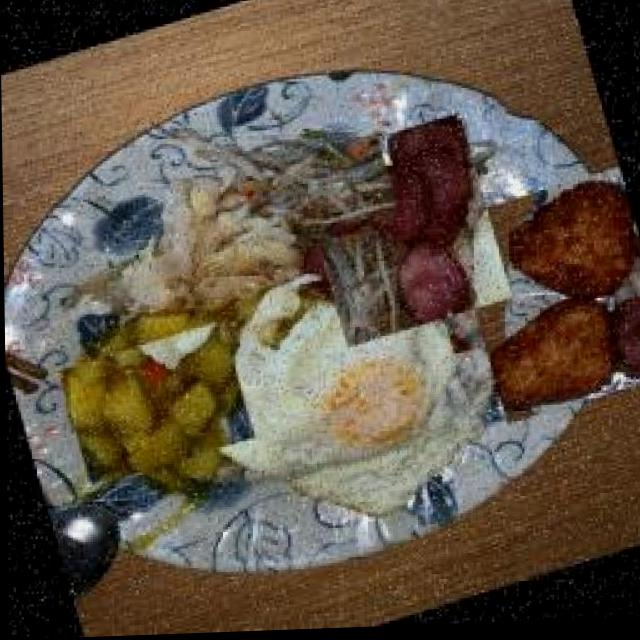chinese_cabbage: (107, 164, 302, 333)
chinese_sausage: (292, 118, 517, 348)
curry: (64, 313, 246, 498)
fried_eggs: (173, 244, 505, 556)
mung_bean_sprouts: (255, 123, 399, 248)
rice: (426, 270, 507, 356)
triangle_hash_brown: (444, 169, 640, 430)
